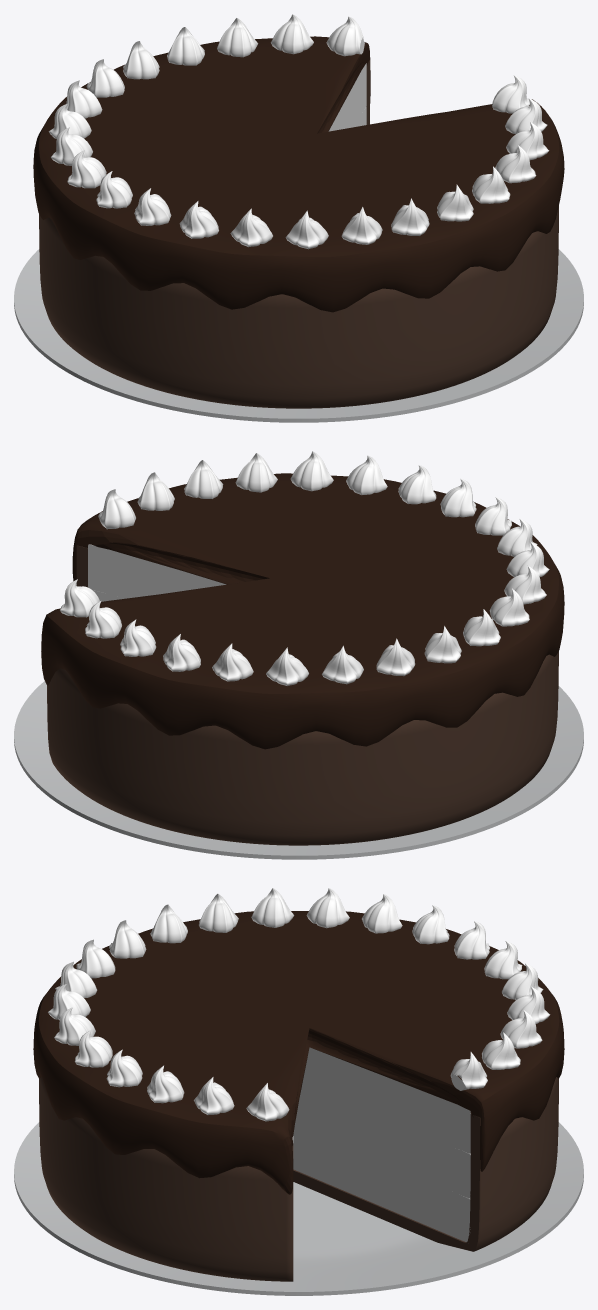
Rendered from pinata.fbx.
The picture shows the model from 3 angles, top to bottom: view 1: azimuth 30°, elevation 25°; view 2: azimuth 150°, elevation 25°; view 3: azimuth 270°, elevation 25°; orthographic projection.
Visible parts, largest first — view 1: Circle.009, Circle.006, BezierCurve.001, Circle.005, Circle.013; view 2: Circle.009, Circle.006, BezierCurve.001, Circle.005, Circle.013; view 3: Circle.009, Circle.006, Circle.005, BezierCurve.001, Circle.010, Circle.012, Circle.013.
Boxes of the visible parts, <box> form: Circle.009: <box>33,36,564,312</box>; Circle.006: <box>39,60,558,408</box>; BezierCurve.001: <box>48,14,549,249</box>; Circle.005: <box>14,249,583,422</box>; Circle.013: <box>328,63,366,131</box>; Circle.009: <box>41,473,564,749</box>; Circle.006: <box>47,545,558,845</box>; BezierCurve.001: <box>60,451,549,685</box>; Circle.005: <box>14,681,583,859</box>; Circle.013: <box>88,544,226,598</box>; Circle.009: <box>33,911,564,1194</box>; Circle.006: <box>39,1077,558,1281</box>; Circle.005: <box>14,1122,583,1295</box>; BezierCurve.001: <box>48,888,550,1121</box>; Circle.010: <box>293,1125,470,1242</box>; Circle.012: <box>295,1083,470,1198</box>; Circle.013: <box>292,1047,470,1153</box>.
Size of the model in its own units: 13.02 by 5.11 by 13.02.
